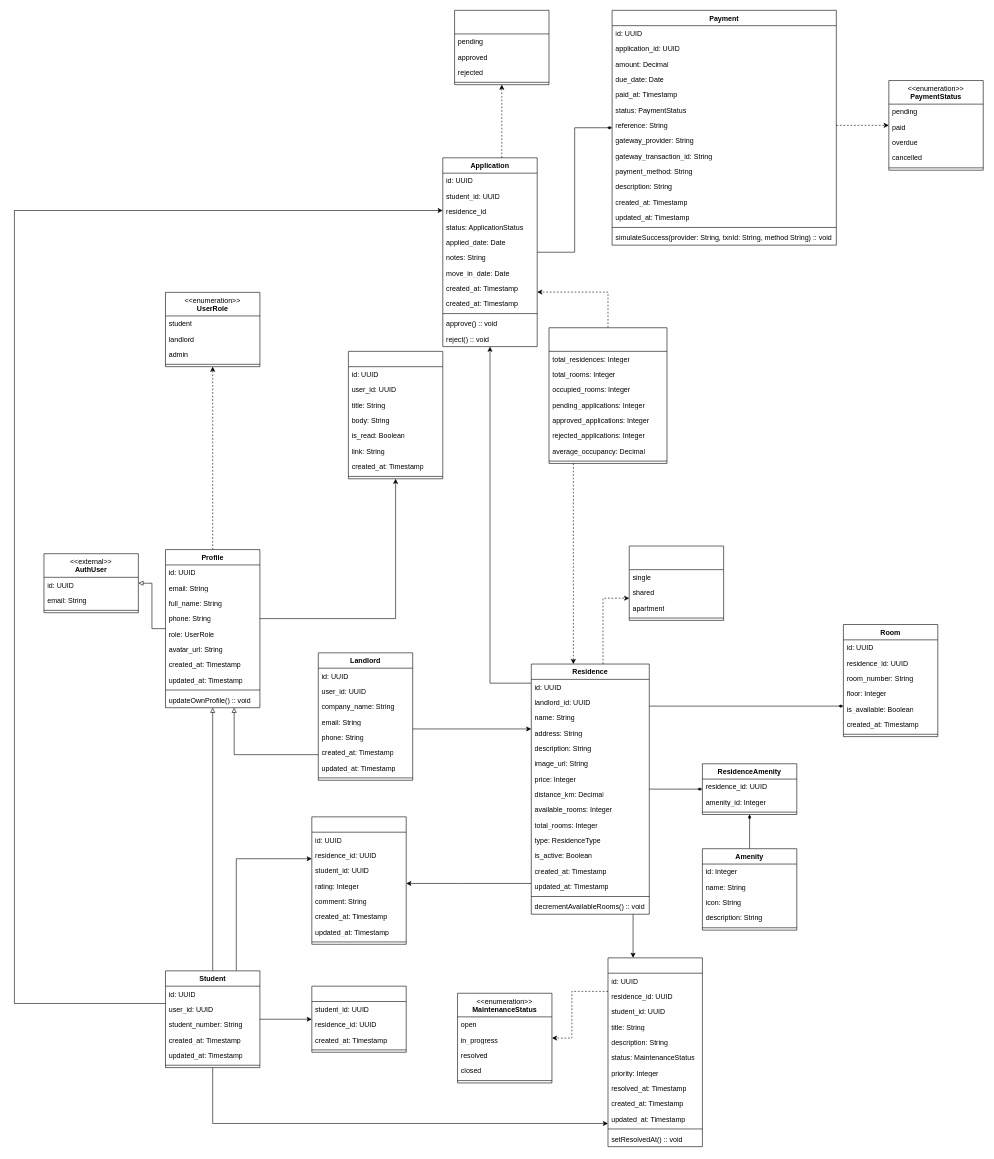
Image size: 994x1159. Some labels were removed from this diagram. Each missing label, with the box of its shape:
<<enumeration>> ApplicationStatus: (454, 10, 549, 85)
<<enumeration>> ResidenceType: (629, 545, 724, 620)
<<view>> AdminStats: (548, 327, 667, 463)
Favorite: (311, 986, 406, 1052)
MaintenanceRequest: (607, 957, 702, 1147)
Notification: (348, 351, 443, 479)
Review: (311, 816, 406, 944)
